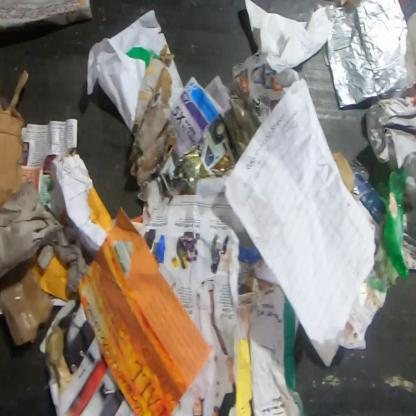cardboard: (130, 44, 175, 190), (0, 262, 52, 347), (0, 69, 29, 208), (333, 152, 357, 194)
rigid_plastic: (384, 168, 409, 278), (351, 164, 388, 232)
soft_plastic: (327, 0, 414, 109)
